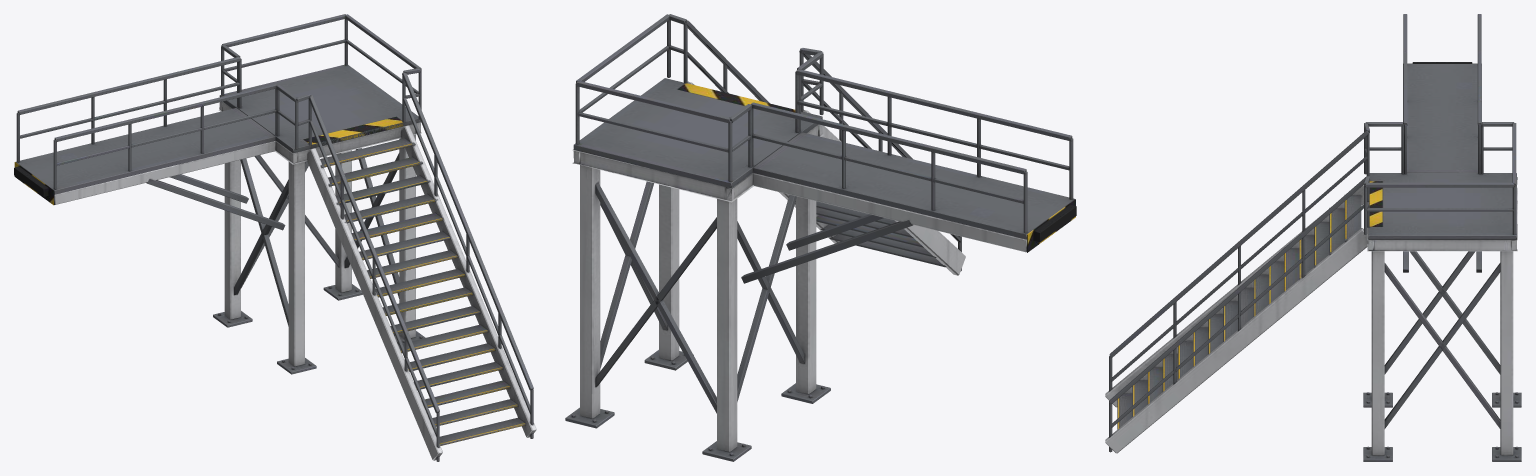
The model's file is 整備庫_31_登艦梯.glb.
The picture shows the model from 3 angles, left to right: view 1: azimuth 30°, elevation 25°; view 2: azimuth 150°, elevation 25°; view 3: azimuth 270°, elevation 25°; orthographic projection. The views are drawn at different scales.
Visible parts, largest first — view 1: Stairs_Mesh; view 2: Stairs_Mesh; view 3: Stairs_Mesh.
Part boxes in pixels (x1=…): Stairs_Mesh: x1=14, y1=14, x2=536, y2=461; Stairs_Mesh: x1=565, y1=14, x2=1076, y2=461; Stairs_Mesh: x1=1105, y1=14, x2=1521, y2=461.
Bounding box in the file's own units: 8.44 × 6.16 × 8.41.
1 material, 1 textured.
